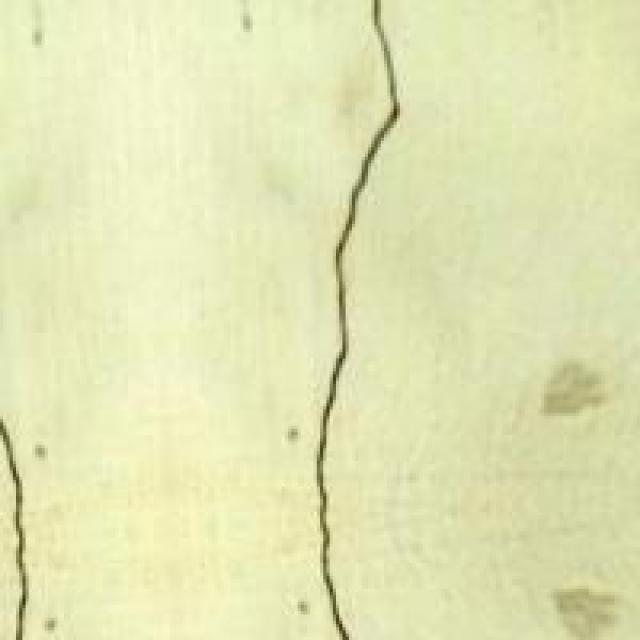crack: (252, 0, 458, 637)
